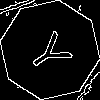Y: (25, 25, 81, 78)
